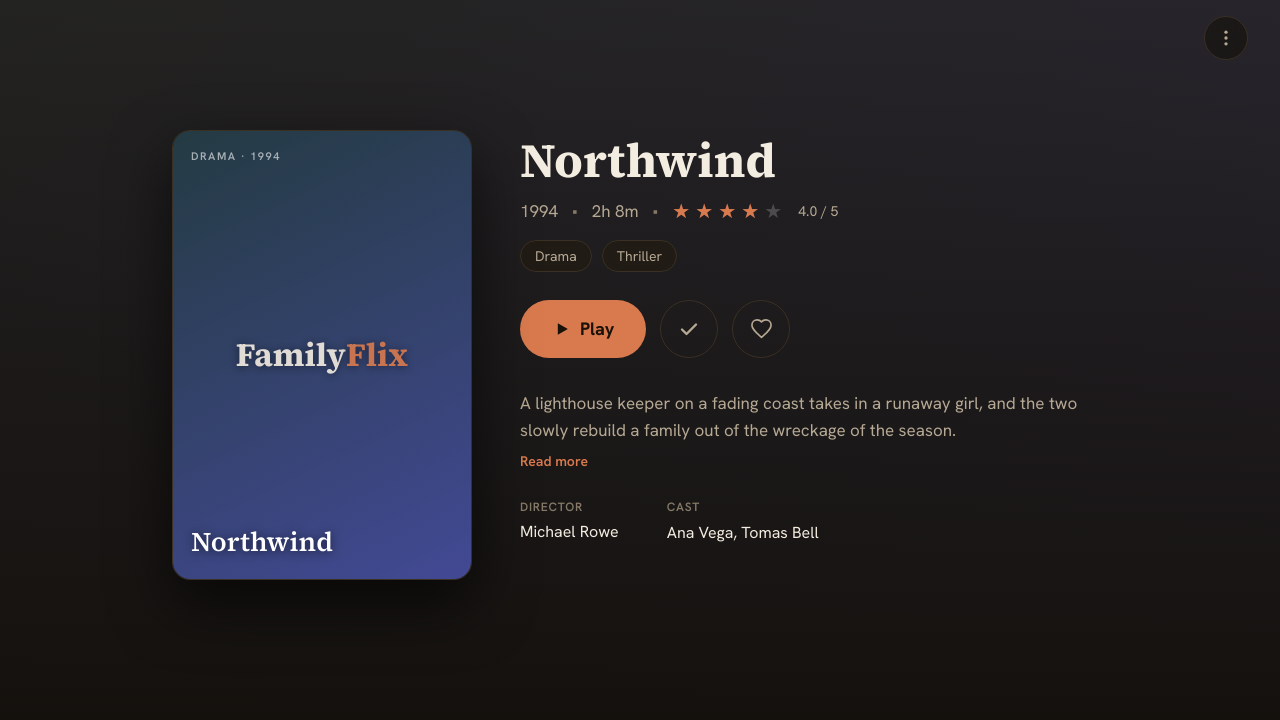
Test: MovieDetail — the rating picker › saves a half-star as the half-star unit it is
The width and height of the screenshot is (1280, 720).
Click the button named "Rate 3½ stars" at (746, 211), box [741,201,751,221]
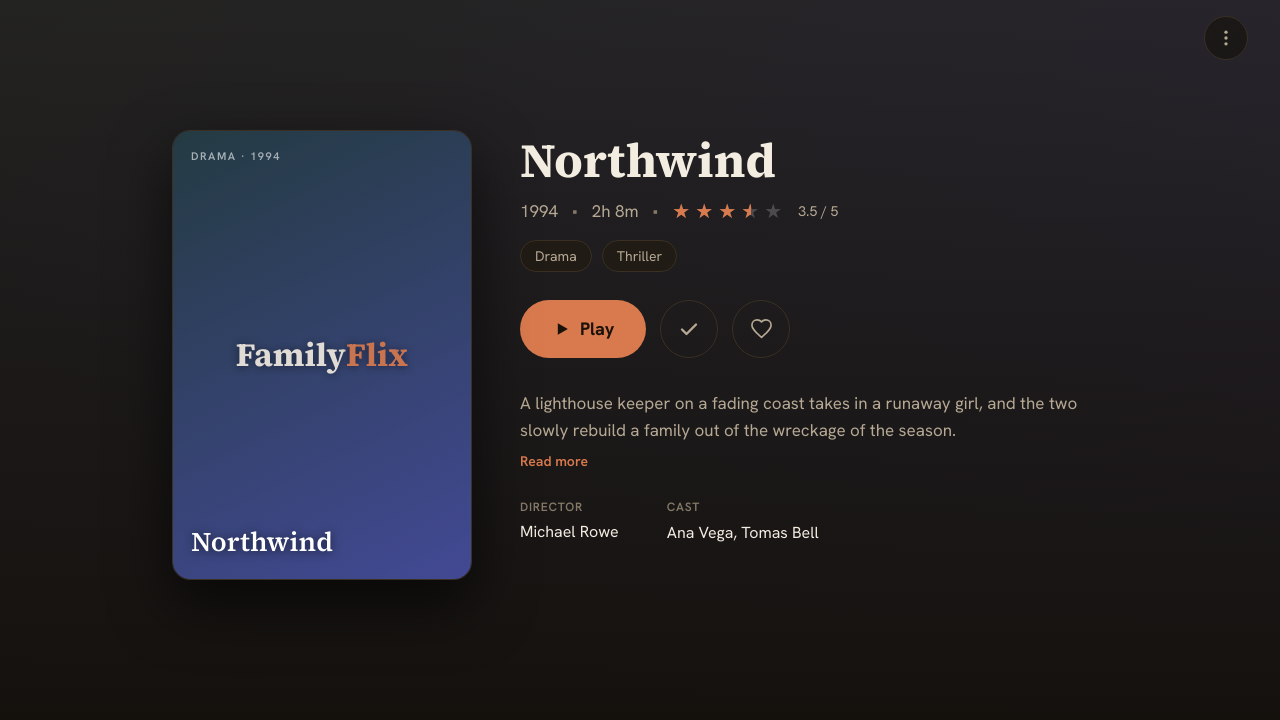
Now the text "3.5 / 5" is shown, box [798,202,838,220]
